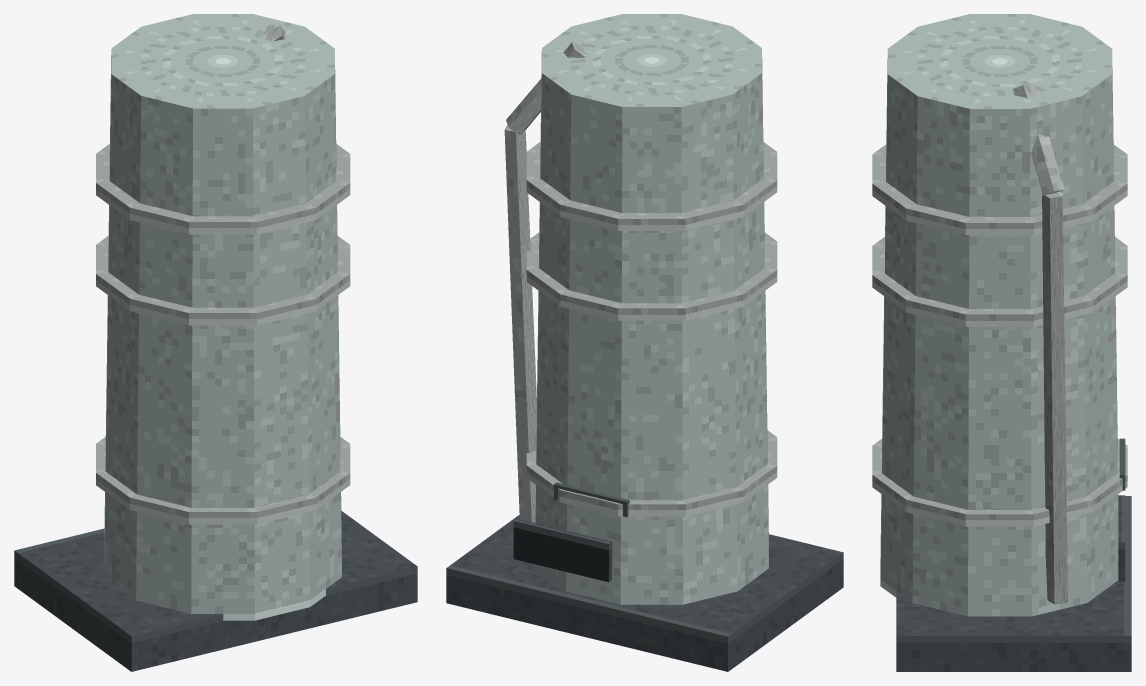
File: f_NMR.glb
The picture shows the model from 3 angles, left to right: view 1: azimuth 30°, elevation 25°; view 2: azimuth 150°, elevation 25°; view 3: azimuth 270°, elevation 25°; orthographic projection. The views are drawn at different scales.
Parts seen in each view (by area): view 1: block_magnet-cryostat, block_instrument-skid, block_cryostat-band (×3); view 2: block_magnet-cryostat, block_instrument-skid, block_cryostat-band (×3), block_cryogenic-service-pipe-1, block_lower-electronics-vent, block_cryogenic-service-pipe-2, block_analysis-instrument-label; view 3: block_magnet-cryostat, block_cryostat-band (×3), block_instrument-skid, block_cryogenic-service-pipe-1, block_cryogenic-service-pipe-2, block_lower-electronics-vent.
Part boxes in pixels (box(x1,y1,x2,y2)): block_magnet-cryostat: box(104, 14, 341, 620); block_instrument-skid: box(14, 511, 417, 671); block_cryostat-band (×3): box(96, 144, 350, 524); block_magnet-cryostat: box(535, 14, 768, 604); block_instrument-skid: box(446, 515, 843, 671); block_cryostat-band (×3): box(526, 142, 777, 516); block_cryogenic-service-pipe-1: box(504, 125, 536, 522); block_lower-electronics-vent: box(513, 518, 612, 582); block_cryogenic-service-pipe-2: box(506, 42, 587, 135); block_analysis-instrument-label: box(554, 482, 629, 517); block_magnet-cryostat: box(880, 14, 1118, 616); block_cryostat-band (×3): box(872, 144, 1127, 526); block_instrument-skid: box(896, 496, 1131, 671); block_cryogenic-service-pipe-1: box(1042, 191, 1067, 604); block_cryogenic-service-pipe-2: box(1013, 83, 1064, 195); block_lower-electronics-vent: box(1118, 495, 1125, 581).
Bounding box in the file's own units: 0.888 × 1.63 × 0.6949.
Materials: 1 (1 with a texture image).
